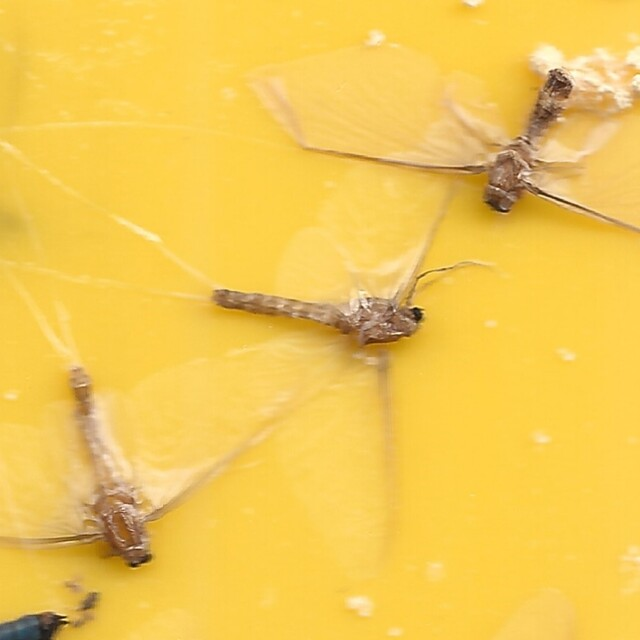Ephemeroptera: (66, 363, 154, 575), (480, 65, 574, 217), (212, 282, 425, 347)
